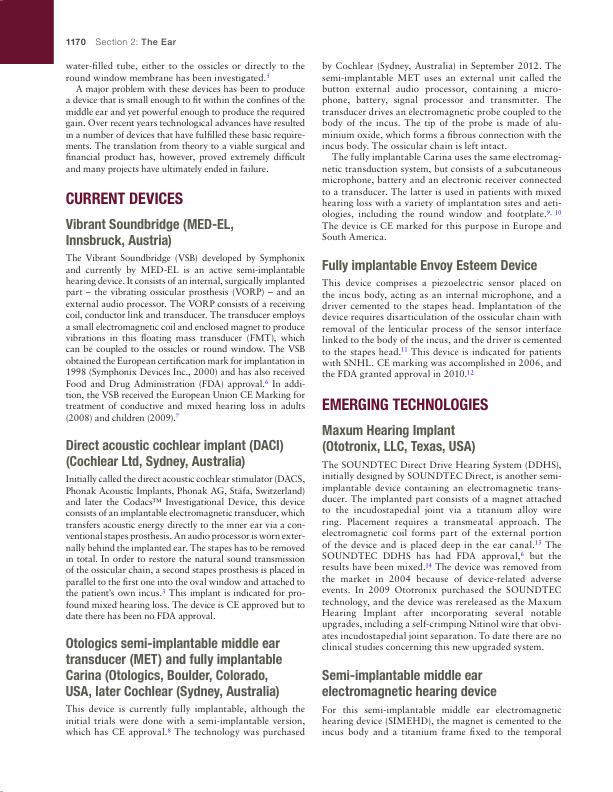header: (94, 36, 178, 48)
section-heading: (320, 397, 489, 413), (65, 190, 184, 206)
sub-section-heading: (64, 635, 284, 701), (65, 438, 285, 470), (321, 668, 498, 701), (321, 422, 477, 457), (65, 217, 234, 249), (321, 257, 538, 275)
text: (320, 458, 563, 654), (320, 60, 563, 243), (64, 252, 306, 425), (64, 473, 308, 623), (64, 60, 306, 176), (320, 277, 563, 381), (320, 703, 563, 740), (64, 703, 307, 739)
